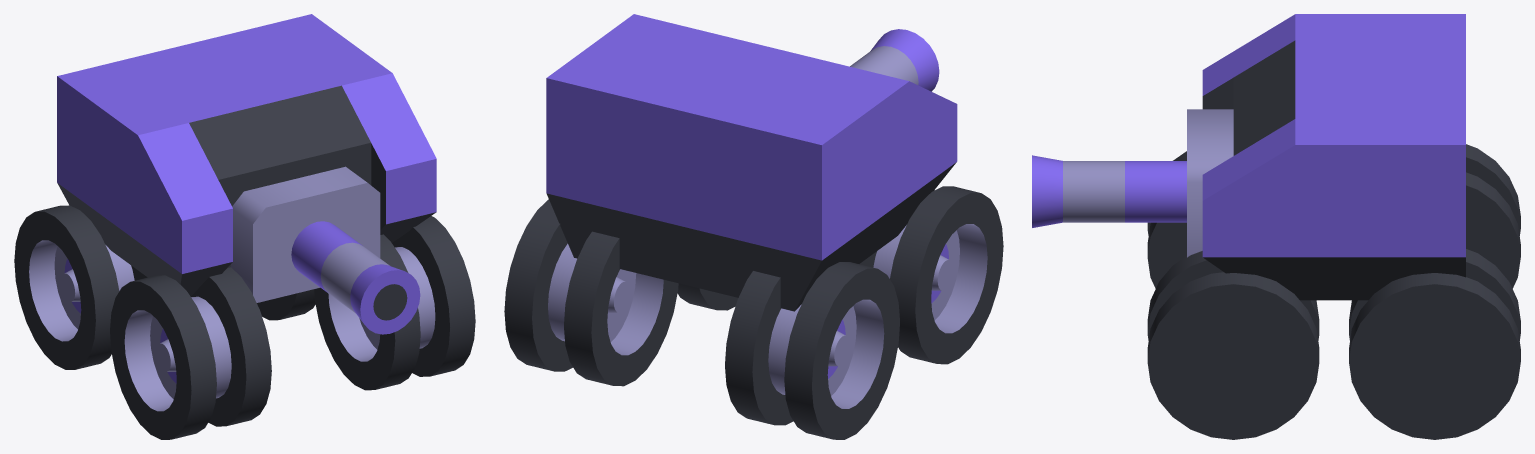
The model's file is Player.fbx.
The picture shows the model from 3 angles, left to right: view 1: azimuth 30°, elevation 25°; view 2: azimuth 150°, elevation 25°; view 3: azimuth 270°, elevation 25°; orthographic projection. The views are drawn at different scales.
Parts seen in each view (by area): view 1: mergedBlocks; view 2: mergedBlocks; view 3: mergedBlocks.
Part boxes in pixels (<box>): mergedBlocks: <box>14,14,475,439</box>; mergedBlocks: <box>504,14,1003,439</box>; mergedBlocks: <box>1032,14,1520,439</box>.
Bounding box in the file's own units: 11.16 × 10.28 × 15.78.
